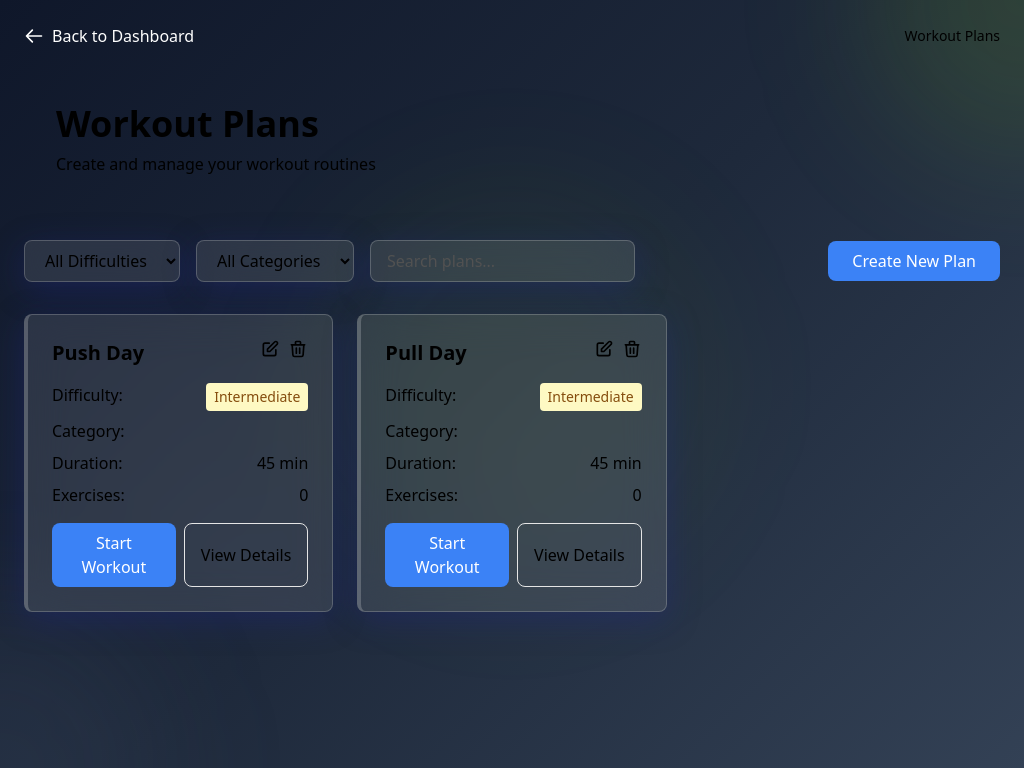
it: PlansPage › searches plans by name
This screenshot has width=1024, height=768.
Expected: the heading "Push Day" is shown, [52,339,144,367]
Expected: the heading "Pull Day" is shown, [385,339,467,367]
In the field with placeholder "Search plans...": (502, 261) [370,240,635,282], type "Push"
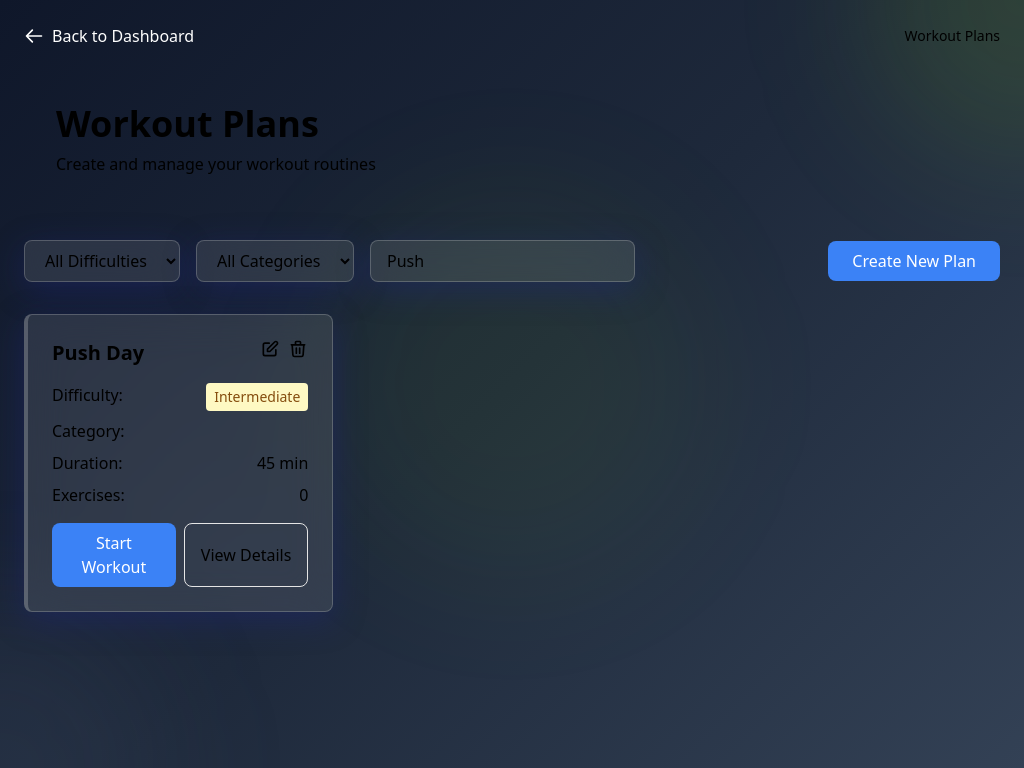
Expected: the heading "Push Day" is shown, [52,339,144,367]
Now the heading "Pull Day" is gone
